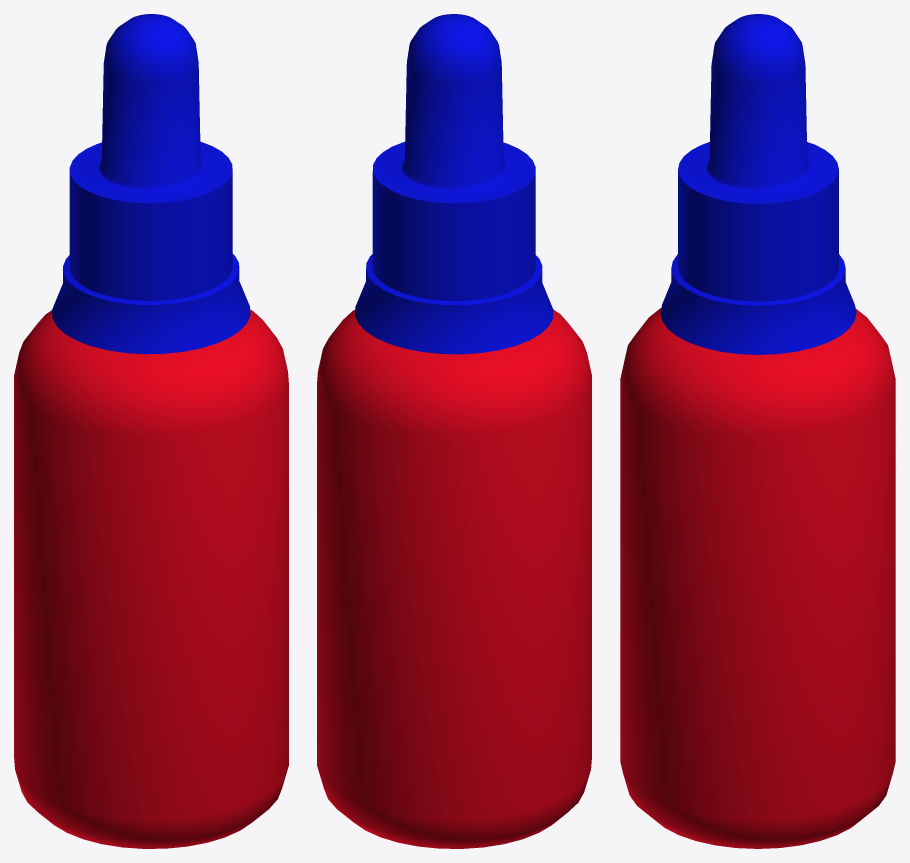
File: SM_BlessedOil_mesh_lod0.fbx
3 views of the same model, side by side, from view 1: azimuth 30°, elevation 25°; view 2: azimuth 150°, elevation 25°; view 3: azimuth 270°, elevation 25° (orthographic).
Parts seen in each view (by area): view 1: lowbot, lowtop; view 2: lowbot, lowtop; view 3: lowbot, lowtop.
Boxes of the visible parts, left/top/right/bottom form: lowbot: left=14, top=310, right=288, bottom=848; lowtop: left=52, top=14, right=250, bottom=354; lowbot: left=317, top=309, right=591, bottom=848; lowtop: left=355, top=14, right=553, bottom=354; lowbot: left=620, top=308, right=895, bottom=848; lowtop: left=660, top=14, right=856, bottom=354.
Size of the model in its own units: 11.55 by 36.42 by 11.55.
